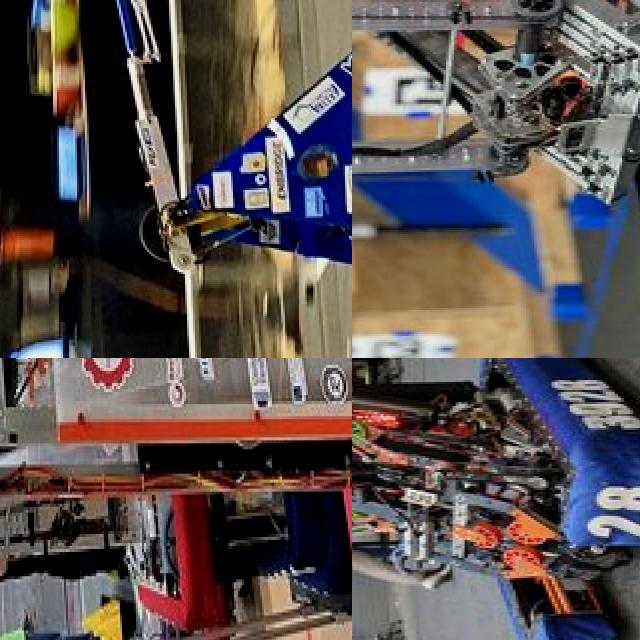FRC-Robots: (0, 358, 352, 640), (352, 358, 640, 640), (352, 0, 640, 260), (143, 0, 352, 321)
